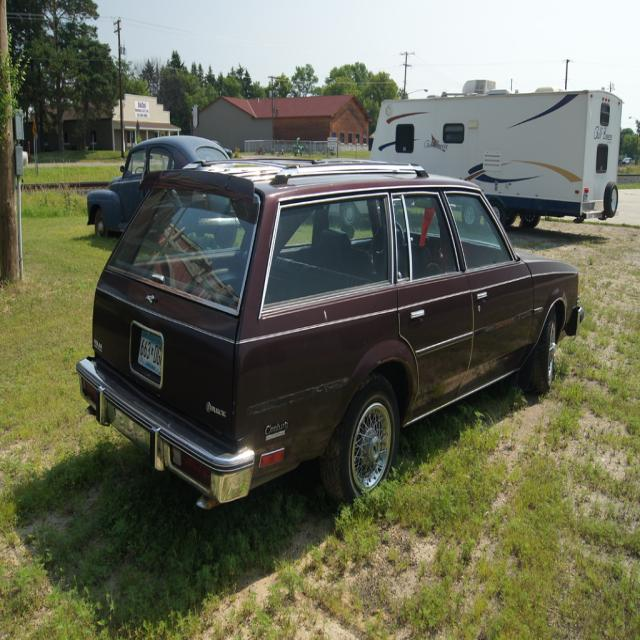car: (68, 156, 587, 521)
